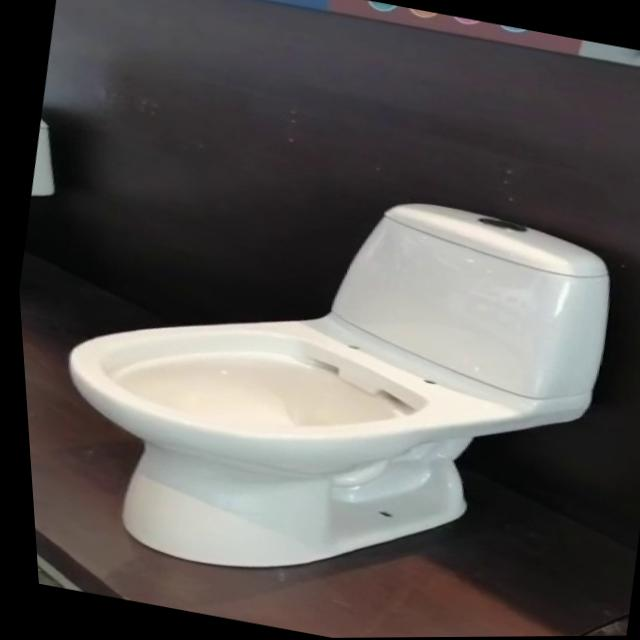toilet: (19, 138, 637, 635)
